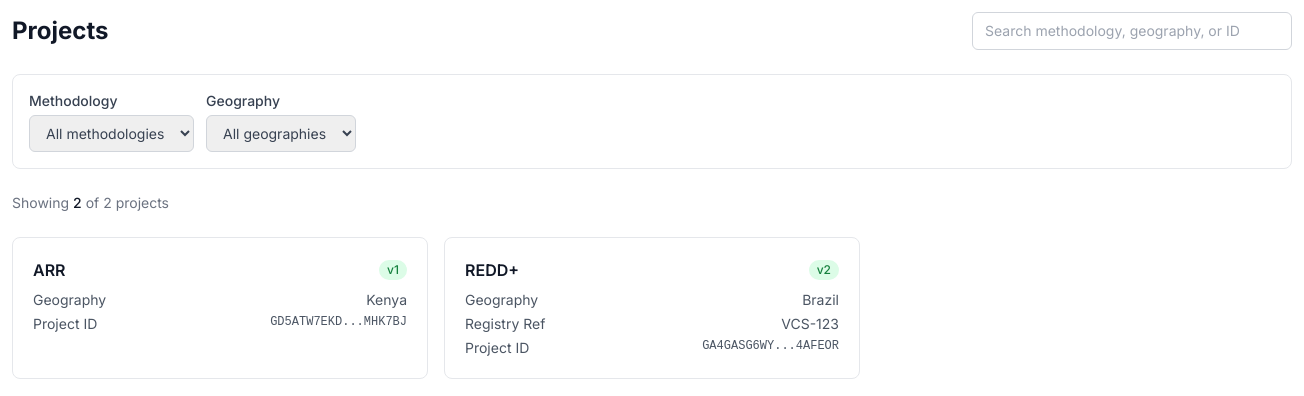
it: Projects page › clears all filters at once
Expected: the heading "ARR" is shown, [33, 258, 66, 282]
Select "REDD+" in the dropdown labelled "Methodology": (112, 134) [29, 115, 194, 152]
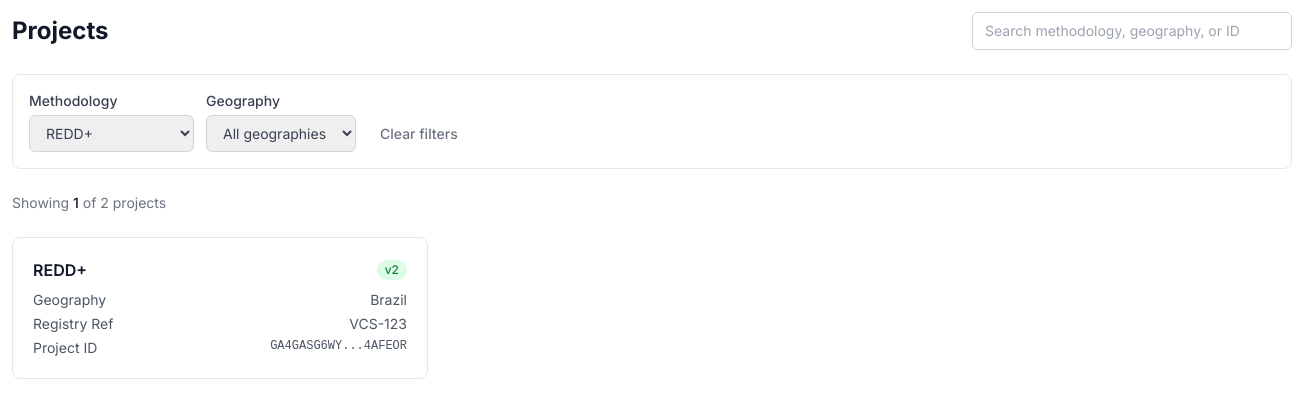
Click the button "Clear filters": (419, 134) [368, 116, 470, 152]
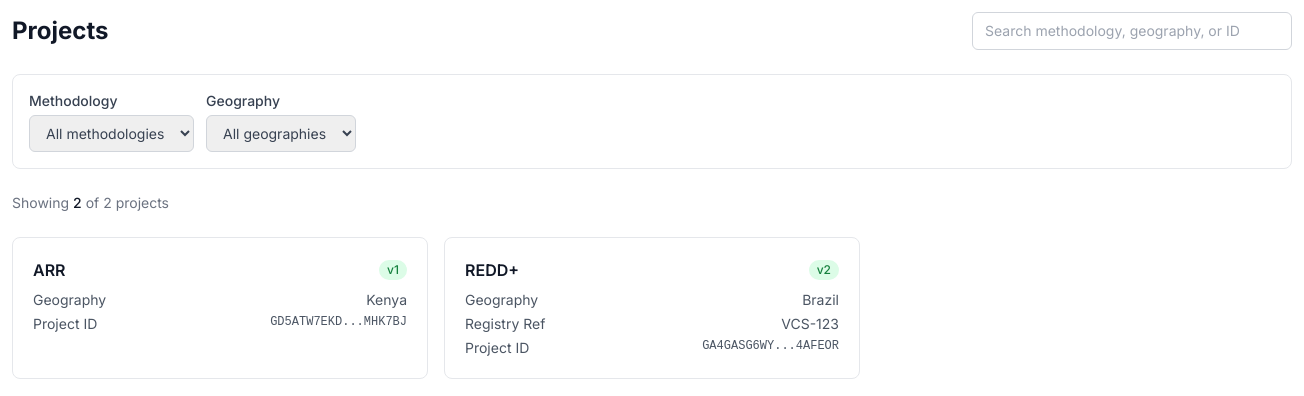
Expected: the heading "REDD+" is shown, [465, 258, 519, 282]
Now the heading "ARR" is shown, box [33, 258, 66, 282]
